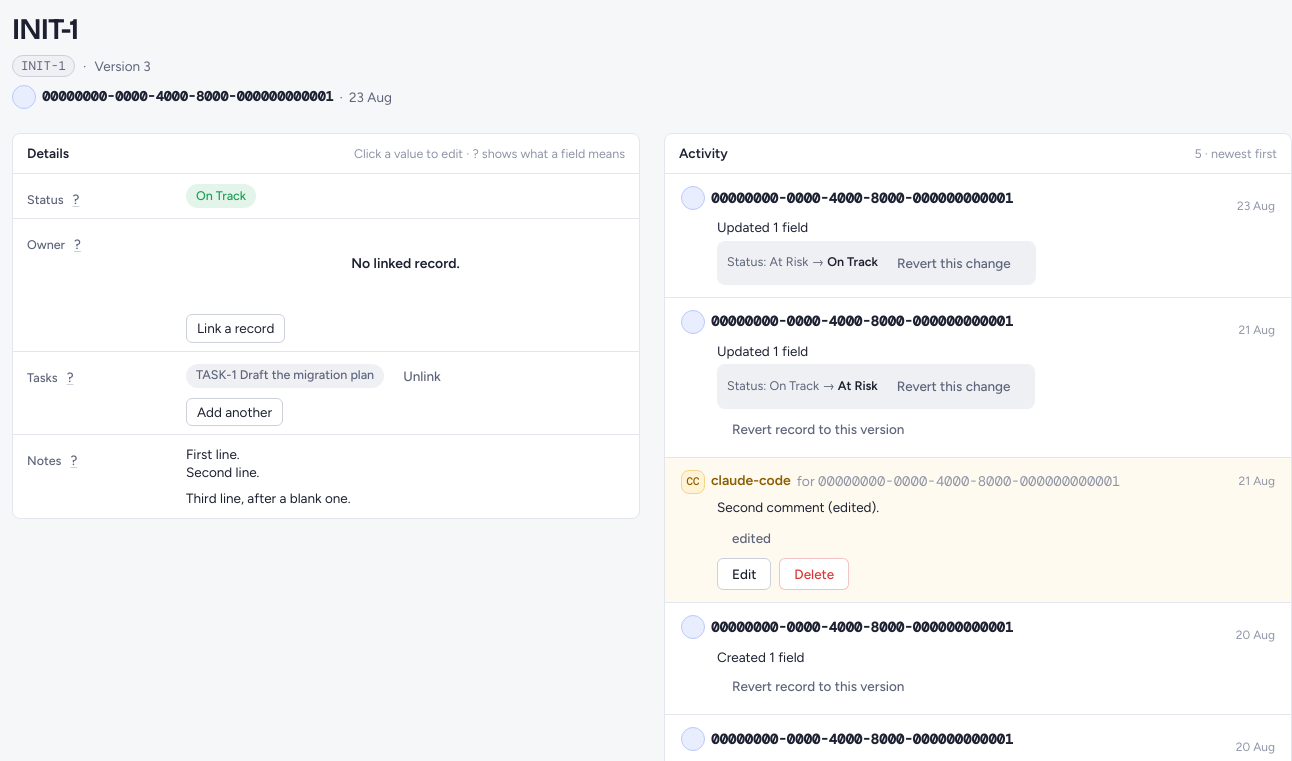
RecordDetailView › editing through the write path › edits a select field in place and shows the new value
Check: the heading "INIT-1" is shown, box [12,11,78,47]
Check: the text "On Track" below "Details" is shown, box [196,188,246,203]
Click the button with aria-label "Edit Status": [221, 196] box [173,182,625,210]
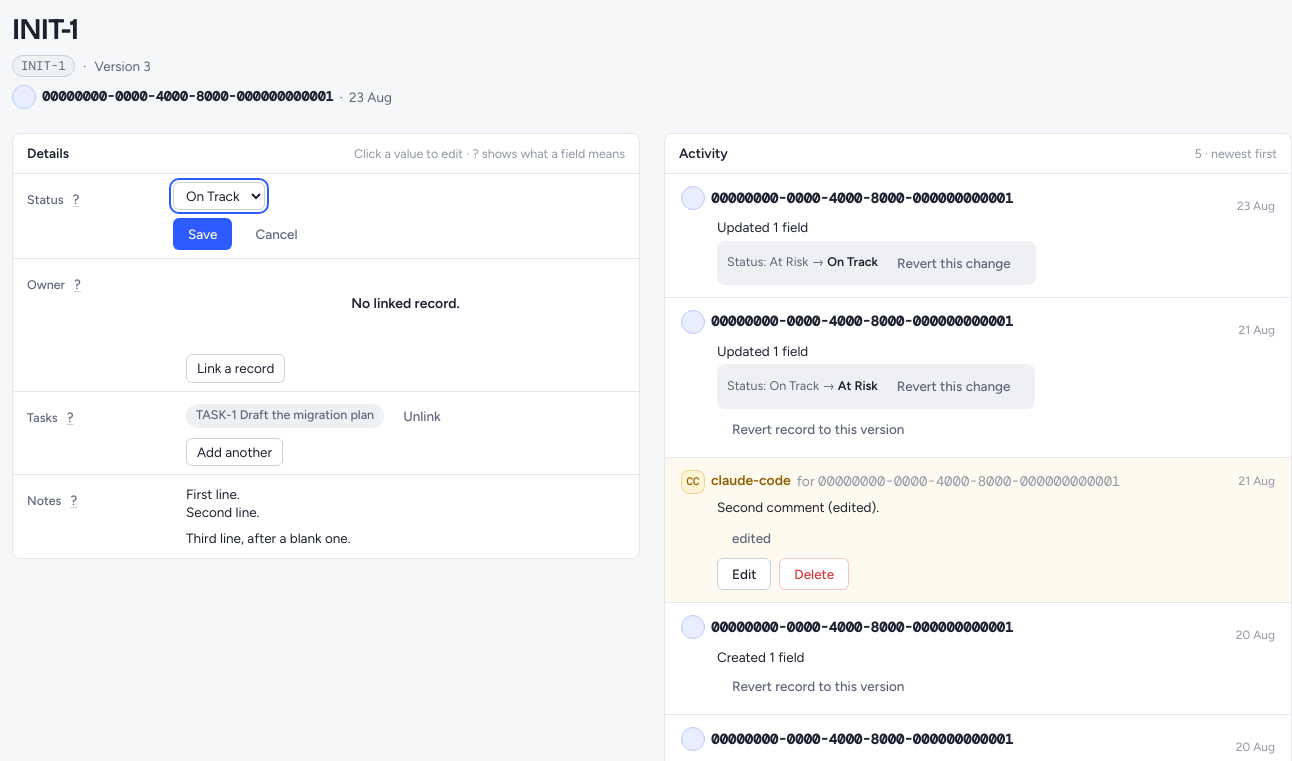
Select "At Risk" in the dropdown named "Status value for INIT-1": [219, 196] box [173,182,265,210]
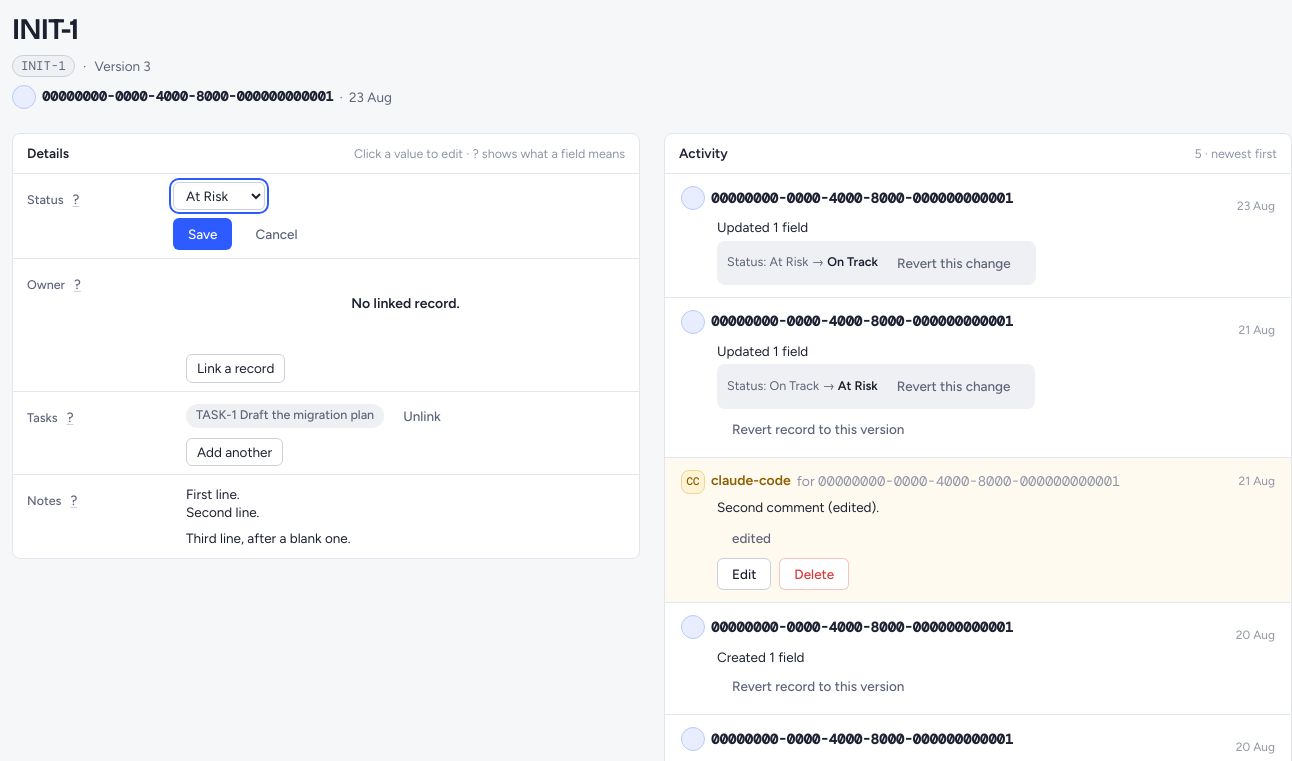
Click the button "Save": [203, 234] box [173,218,232,250]
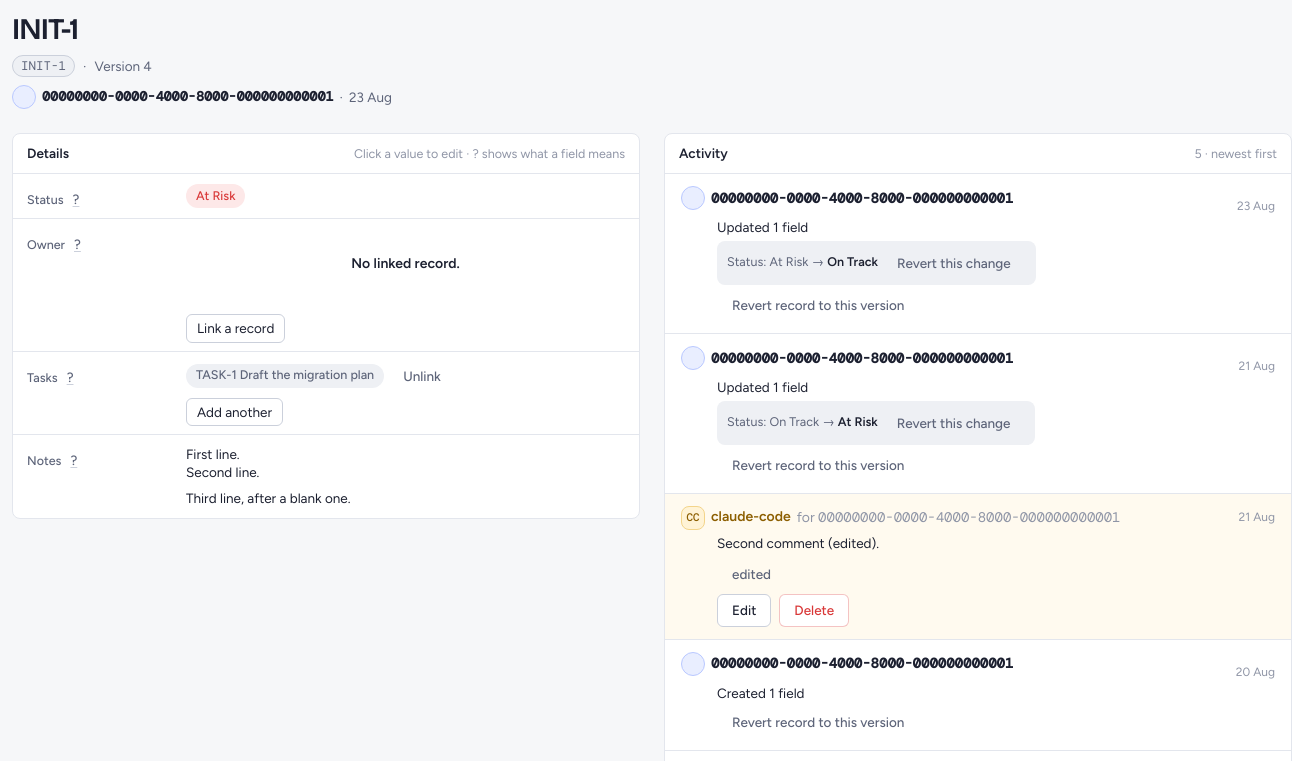
Check: the text "At Risk" below "Details" is shown, box [196,188,235,203]
